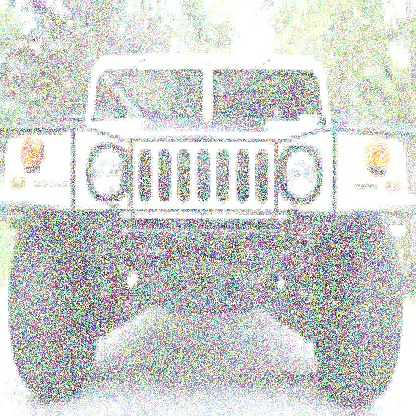Vehicle: (6, 45, 414, 413)
